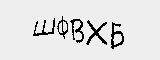Б: (110, 22, 125, 50)
В: (68, 17, 86, 44)
Ф: (55, 17, 69, 42)
Х: (84, 19, 107, 46)
Ш: (32, 17, 56, 39)
